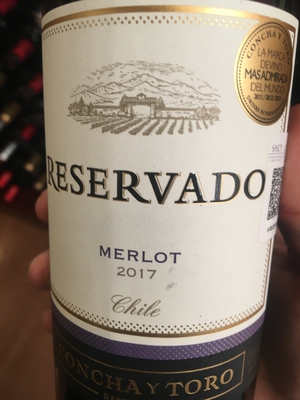reservado merlot: (35, 6, 299, 400)
